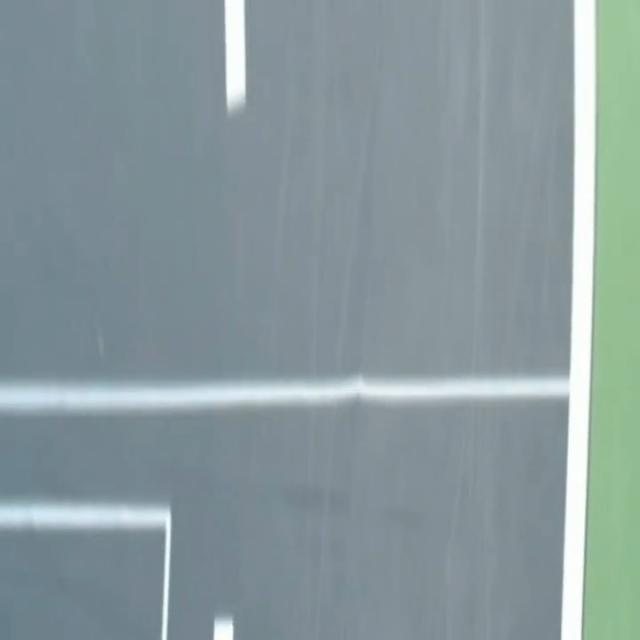center: (224, 0, 245, 114), (213, 616, 233, 639)
right: (561, 0, 596, 639)
